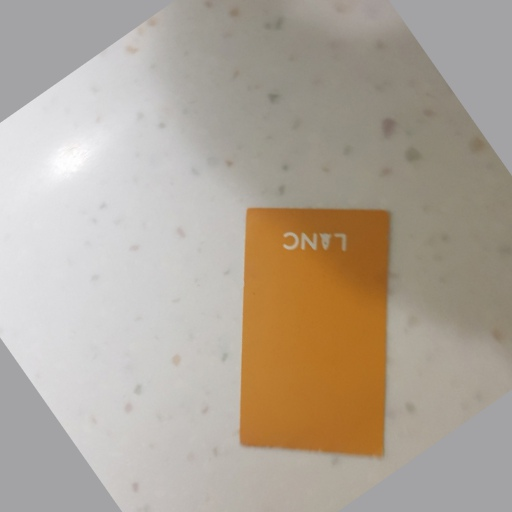Paper_2: (238, 197, 391, 475)
